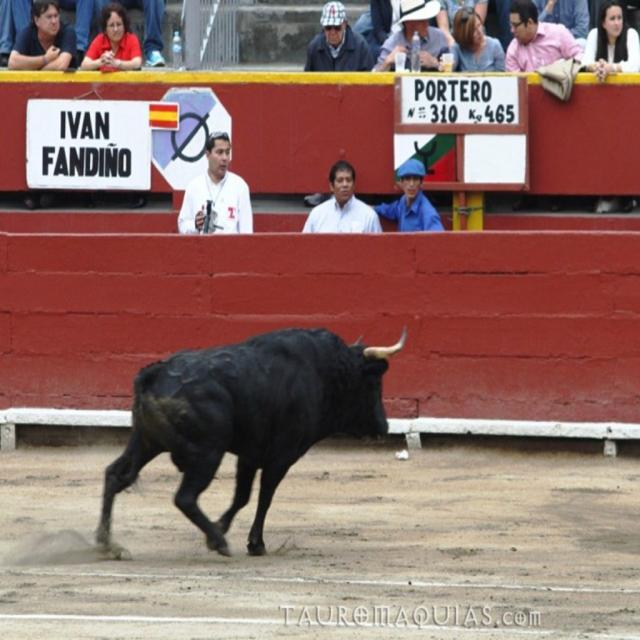Deer: (93, 324, 410, 563)
